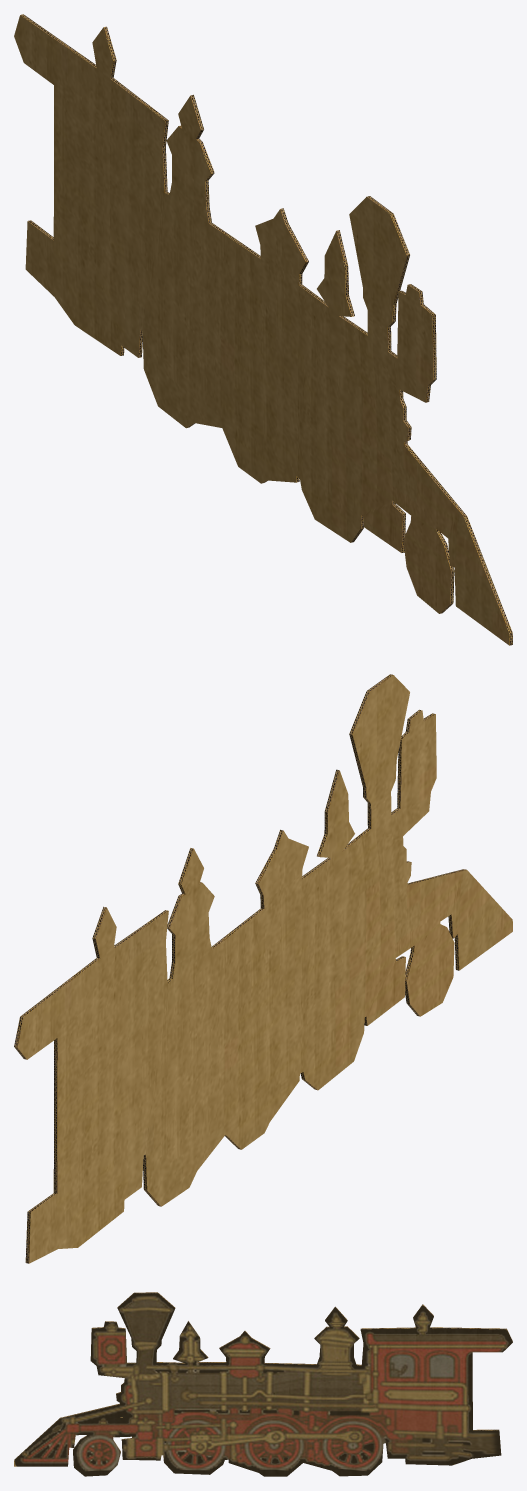
File: AST_GRAPH_locomotive_2_GJ.fbx
The picture shows the model from 3 angles, top to bottom: view 1: azimuth 30°, elevation 25°; view 2: azimuth 150°, elevation 25°; view 3: azimuth 270°, elevation 25°; orthographic projection. The views are drawn at different scales.
Visible parts, largest first — view 1: locomotive; view 2: locomotive; view 3: locomotive.
Part boxes in pixels (x1,y1,x2,y2): locomotive: (14,14,512,645); locomotive: (14,674,512,1263); locomotive: (14,1292,512,1476).
Bounding box in the file's own units: 2 × 200 × 493.
